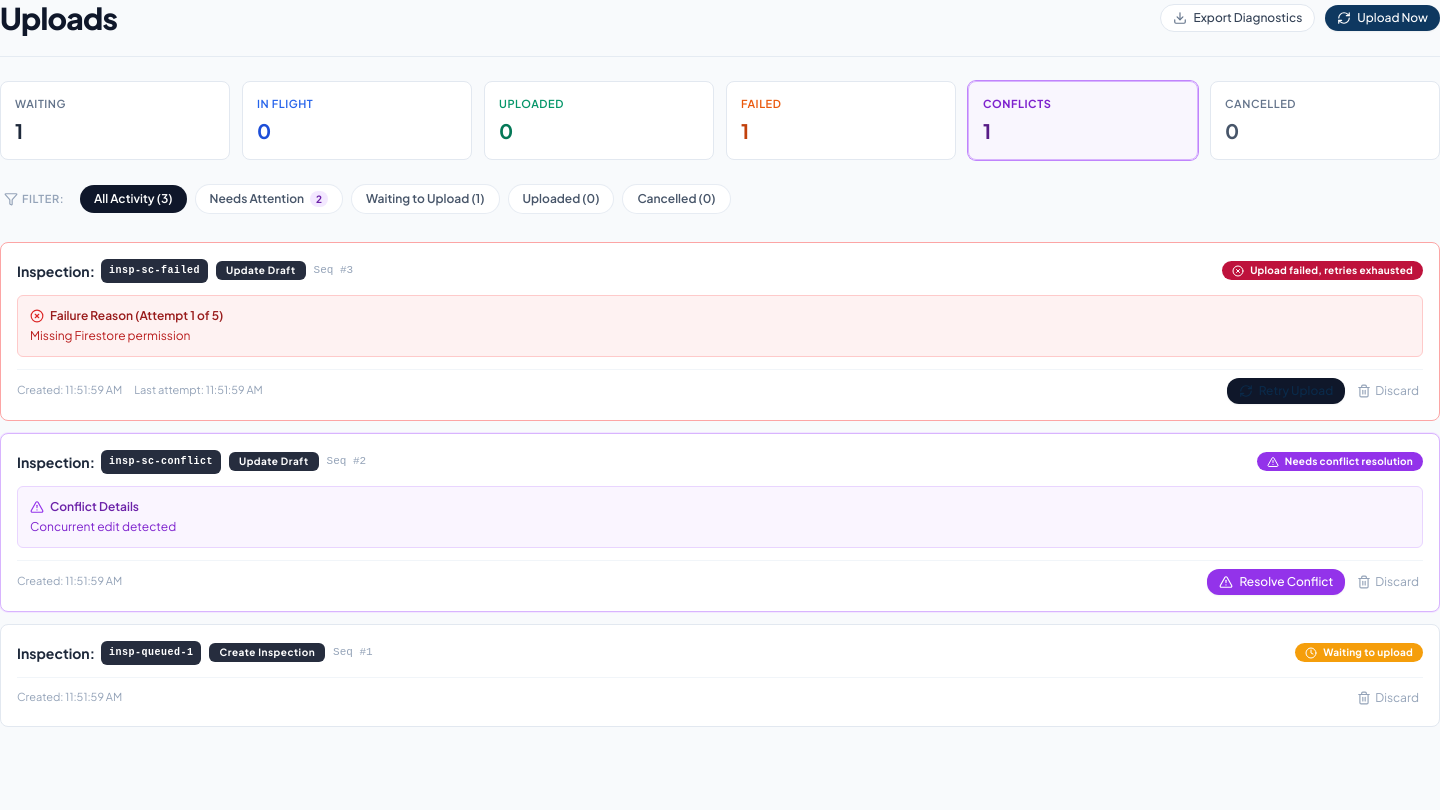
Test: UploadsScreen Component › opens ConflictResolutionModal when clicking '[Resolve Conflict]'
Check: the text "Needs conflict resolution" is shown, box [1285,454,1413,469]
Click the button "Resolve Conflict" at [1276, 582], box [1207,568,1345,594]
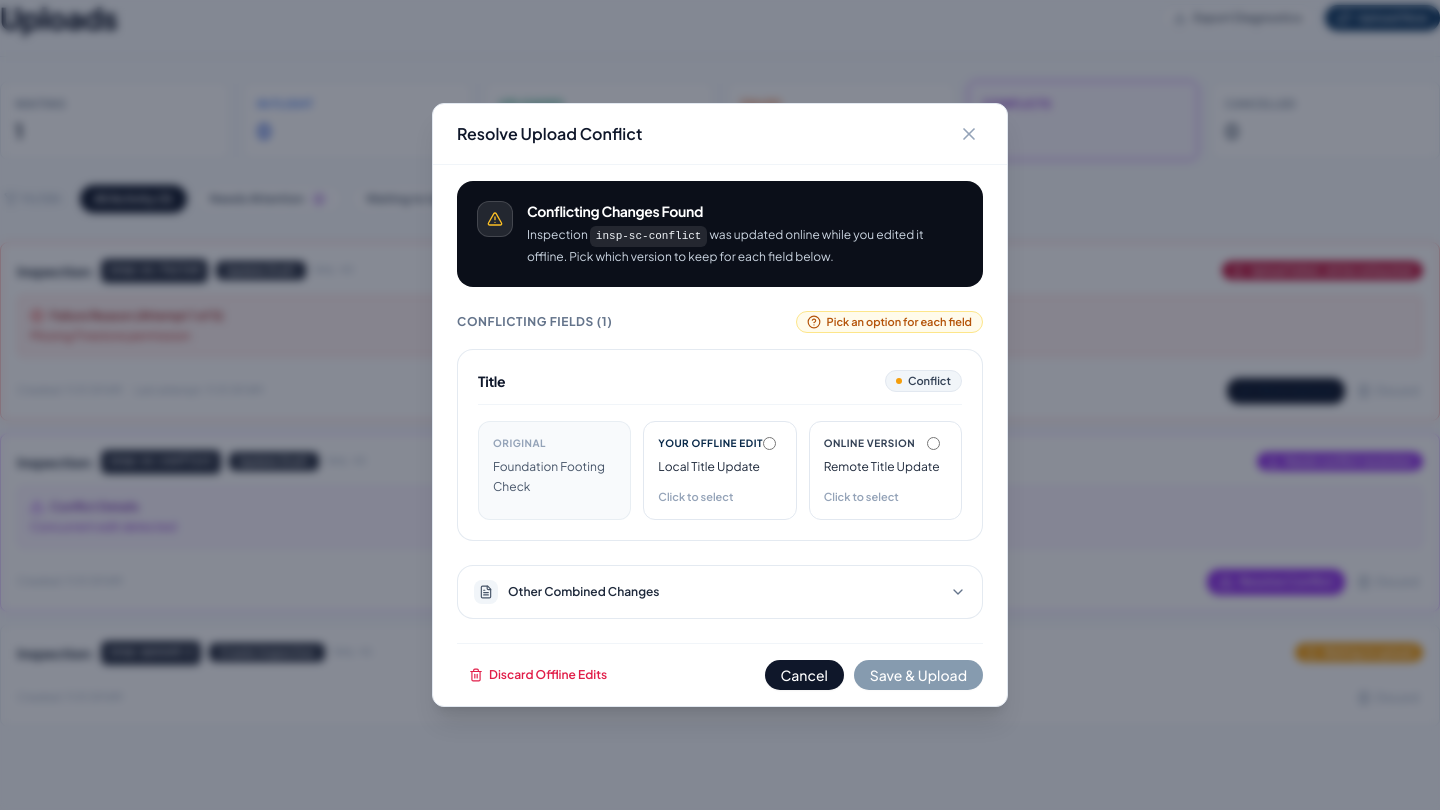
Check: the heading "Resolve Upload Conflict" is shown, box [457,122,642,146]
